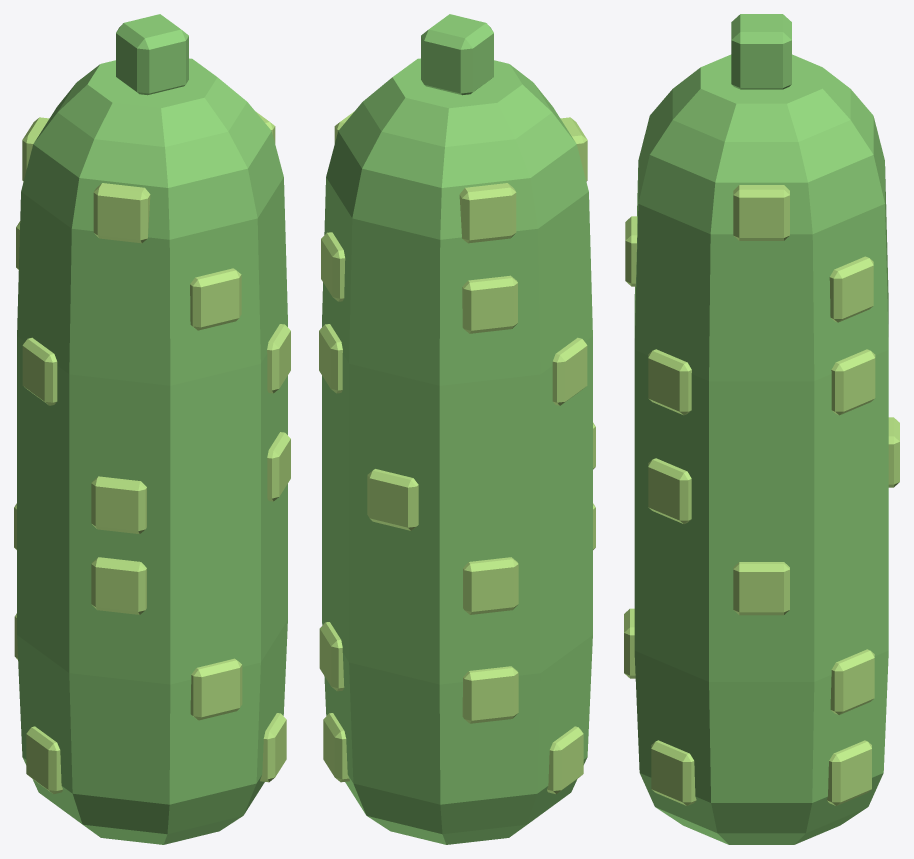
The model's file is Cucumber.fbx.
3 views of the same model, side by side, from view 1: azimuth 30°, elevation 25°; view 2: azimuth 150°, elevation 25°; view 3: azimuth 270°, elevation 25° (orthographic).
Visible parts, largest first — view 1: Cucumber.Body, Cucumber.Studs; view 2: Cucumber.Body, Cucumber.Studs; view 3: Cucumber.Body, Cucumber.Studs.
Boxes of the visible parts, x1,y1,x2,y2 form: Cucumber.Body: (17, 14, 287, 844); Cucumber.Studs: (14, 111, 290, 794); Cucumber.Body: (322, 14, 592, 844); Cucumber.Studs: (319, 111, 595, 794); Cucumber.Body: (634, 14, 888, 844); Cucumber.Studs: (624, 185, 899, 805).
Size of the model in its own units: 1.37 by 4.3 by 1.36.
